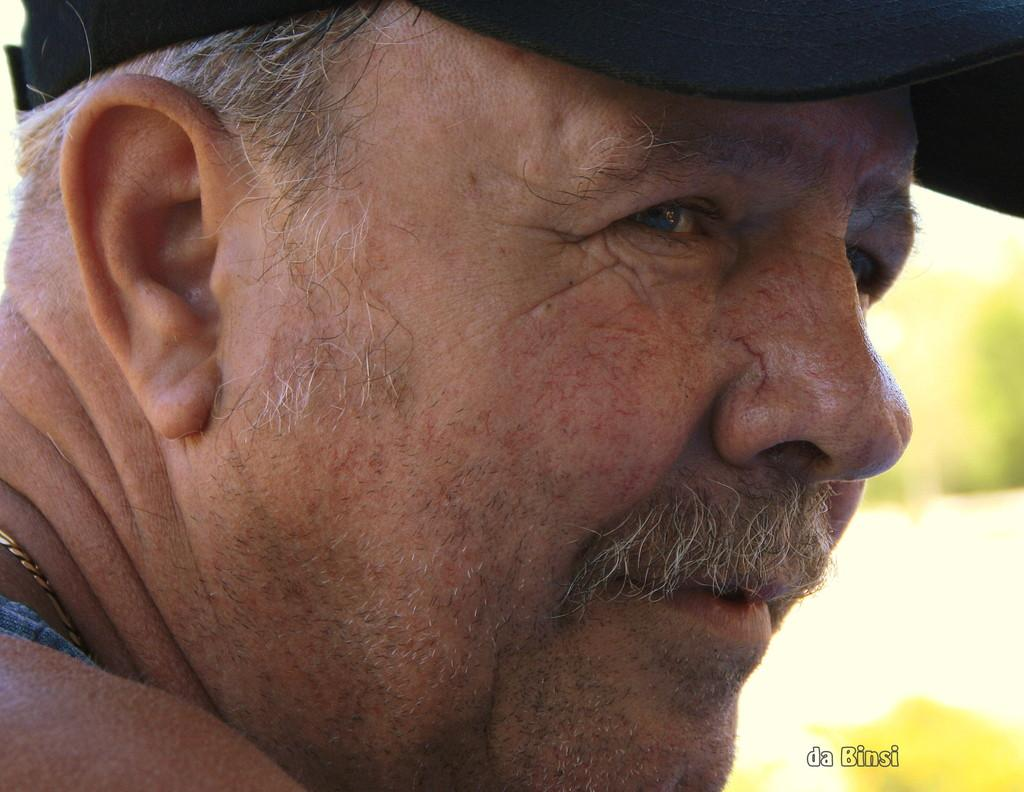Hat: (4, 0, 1023, 215)
